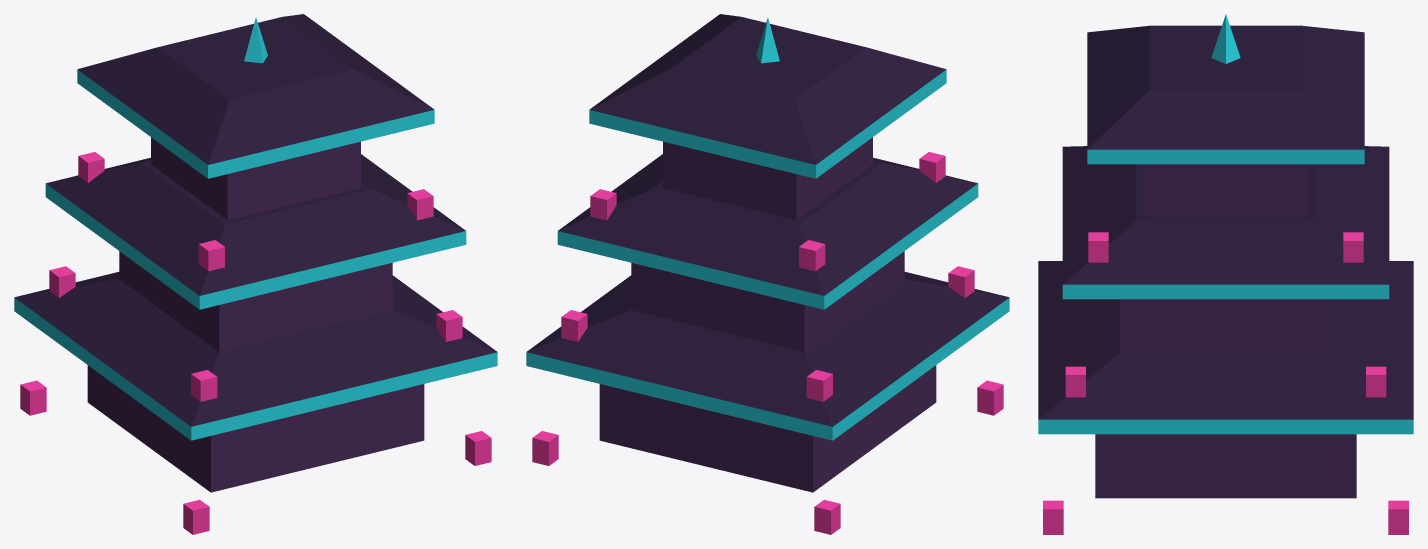
Rendered from env_r8_pagoda_shop.glb.
3 renders of one model, left to right at view 1: azimuth 30°, elevation 25°; view 2: azimuth 150°, elevation 25°; view 3: azimuth 270°, elevation 25°, orthographic. The views are drawn at different scales.
Parts seen in each view (by area): view 1: env_r8_pagoda_shop; view 2: env_r8_pagoda_shop; view 3: env_r8_pagoda_shop.
Boxes of the visible parts, x1,y1,x2,y2 form: env_r8_pagoda_shop: (14, 14, 497, 534); env_r8_pagoda_shop: (526, 14, 1009, 534); env_r8_pagoda_shop: (1038, 14, 1413, 534).
Bounding box in the file's own units: 4.6 × 6 × 4.6.
Materials: 1 (1 with a texture image).
